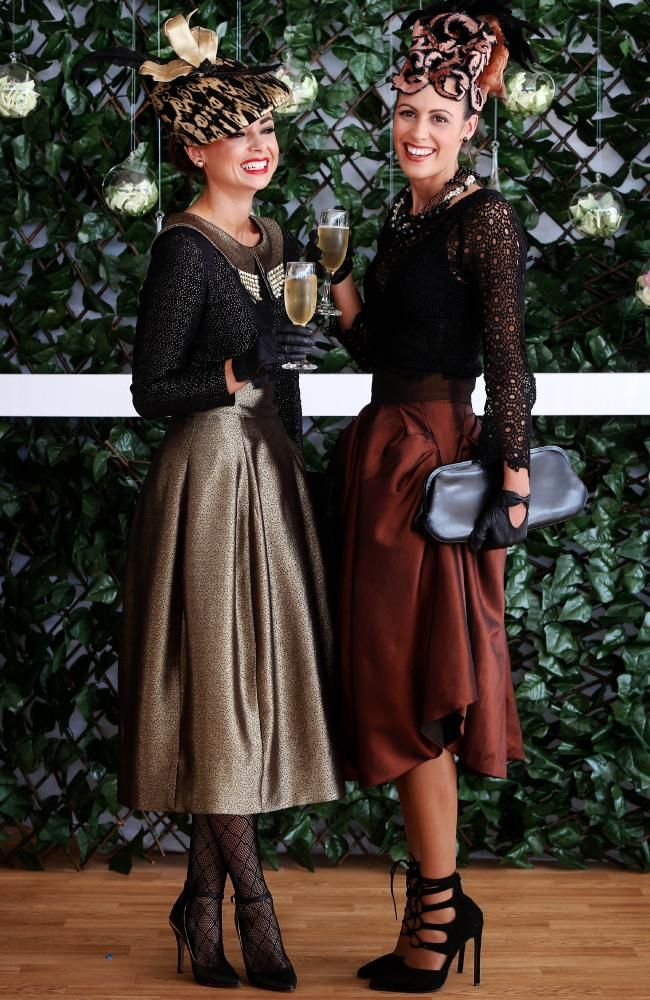Person: (132, 15, 336, 1000), (327, 10, 529, 1000)
